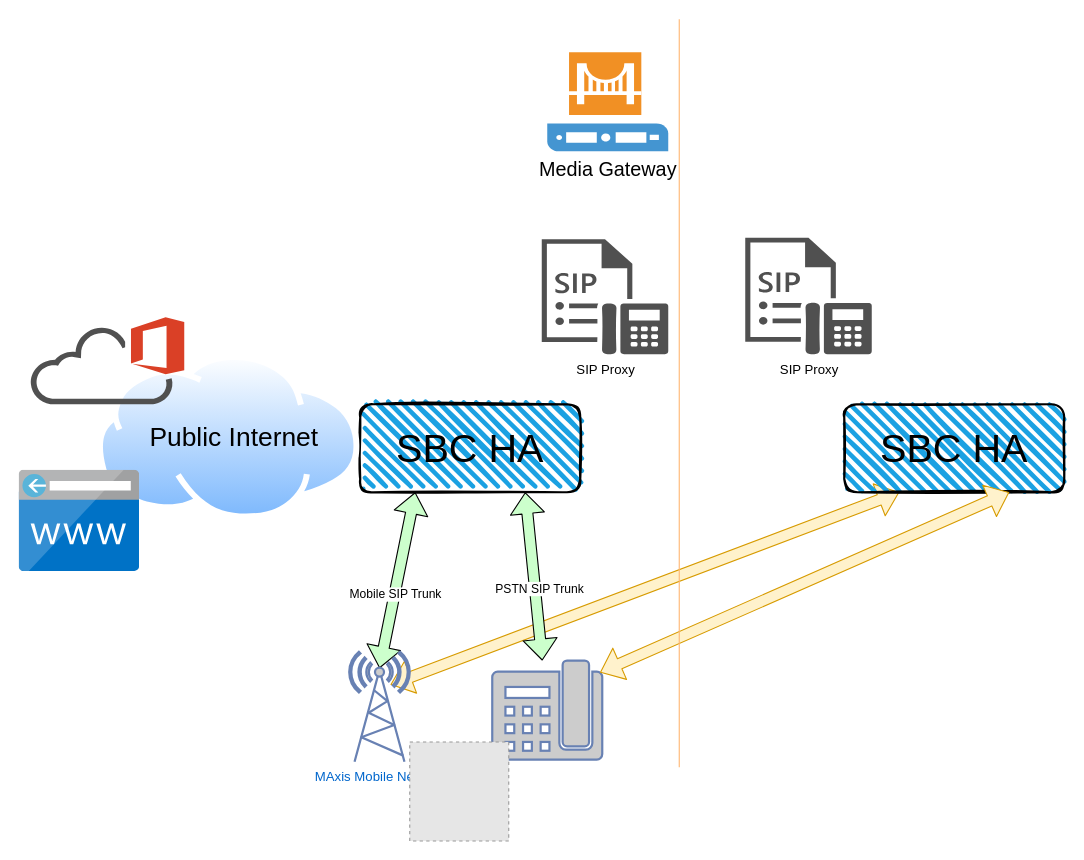
The diagram is 1084 pixels wide and 860 high, and some of its shapes have lost their labels. Grey dashed boxes stand in for pictures. The shapes that lost their labels are listed below. From the top down, each one's centre as x and y in pixels, then its label:
pixel 107 360: MS Teams (TCP)
pixel 79 520: SIP Endpoint (UDP)
pixel 547 709: Maxis Fixed Line Network
